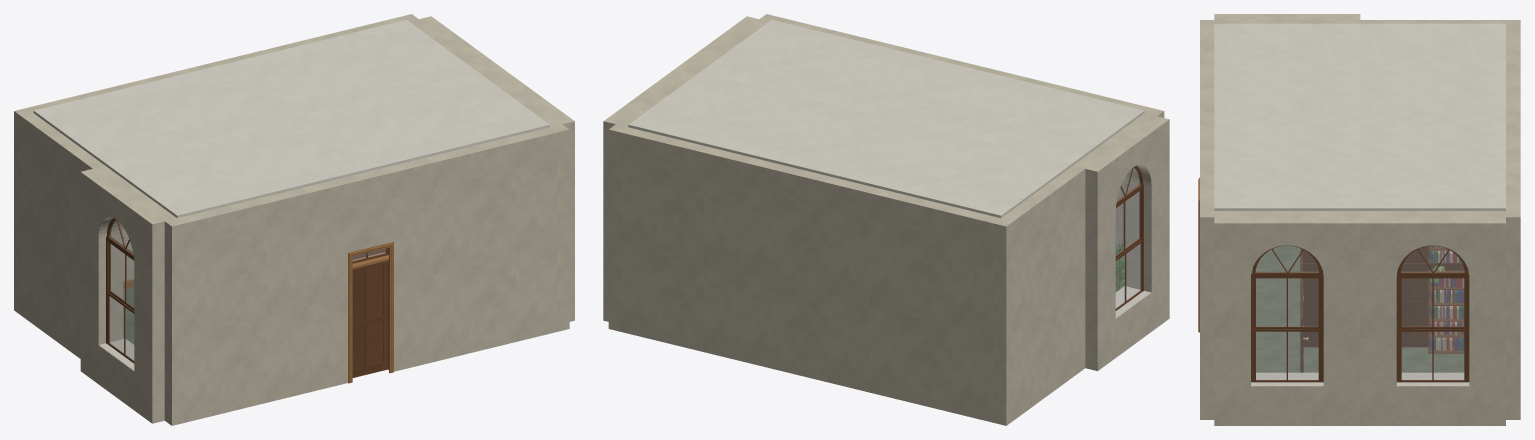
The model's file is X14_DEMO_LRS_Room_1953.glb.
3 views of the same model, side by side, from view 1: azimuth 30°, elevation 25°; view 2: azimuth 150°, elevation 25°; view 3: azimuth 270°, elevation 25° (orthographic).
Parts seen in each view (by area): view 1: X14_ARCH_Wall_Plain_300_LOD0.s0, X14_ARCH_Wall_Plain_300_LOD0.s2, X14_ARCH_Wall_Door_300_LOD0.s1, X14_ARCH_Wall_Window_300_LOD0.w1, X14_ARCH_Wall_Plain_300_LOD0.w0, X14_ARCH_Ceiling_Coffered_300_LOD0.c00, X14_ARCH_Ceiling_Coffered_300_LOD0.c10, X14_ARCH_Ceiling_Coffered_300_LOD0.c20, X14_ARCH_Ceiling_Coffered_300_LOD0.c01, X14_ARCH_Ceiling_Coffered_300_LOD0.c11, X14_ARCH_Ceiling_Coffered_300_LOD0.c21, X14_ARCH_Corner_LOD0.k0 (+10 smaller); view 2: X14_ARCH_Wall_Plain_300_LOD0.n1, X14_ARCH_Wall_Plain_300_LOD0.n2, X14_ARCH_Wall_Plain_300_LOD0.n0, X14_ARCH_Wall_Window_300_LOD0.w1, X14_ARCH_Wall_Plain_300_LOD0.w0, X14_ARCH_Ceiling_Coffered_300_LOD0.c01, X14_ARCH_Ceiling_Coffered_300_LOD0.c21, X14_ARCH_Ceiling_Coffered_300_LOD0.c11, X14_ARCH_Ceiling_Coffered_300_LOD0.c00, X14_ARCH_Ceiling_Coffered_300_LOD0.c10, X14_ARCH_Ceiling_Coffered_300_LOD0.c20, X14_ARCH_Corner_LOD0.k3 (+7 smaller); view 3: X14_ARCH_Wall_Window_300_LOD0.e0, X14_ARCH_Wall_Window_300_LOD0.e1, X14_ARCH_Ceiling_Coffered_300_LOD0.c20, X14_ARCH_Ceiling_Coffered_300_LOD0.c21, X14_ARCH_Ceiling_Coffered_300_LOD0.c00, X14_ARCH_Ceiling_Coffered_300_LOD0.c01, X14_ARCH_Ceiling_Coffered_300_LOD0.c10, X14_ARCH_Ceiling_Coffered_300_LOD0.c11, X14_ARCH_Wall_Window_300_Glass_LOD0.e0, X14_ARCH_Wall_Window_300_Glass_LOD0.e1, X14_ARCH_Corner_LOD0.k1, X14_ARCH_Corner_LOD0.k2 (+16 smaller).
Boxes of the visible parts, <box> form: X14_ARCH_Wall_Plain_300_LOD0.s0: <box>177,188,308,422</box>; X14_ARCH_Wall_Plain_300_LOD0.s2: <box>426,127,557,362</box>; X14_ARCH_Wall_Door_300_LOD0.s1: <box>302,157,432,392</box>; X14_ARCH_Wall_Window_300_LOD0.w1: <box>80,166,176,423</box>; X14_ARCH_Wall_Plain_300_LOD0.w0: <box>21,113,104,358</box>; X14_ARCH_Ceiling_Coffered_300_LOD0.c00: <box>105,133,301,218</box>; X14_ARCH_Ceiling_Coffered_300_LOD0.c10: <box>230,102,425,187</box>; X14_ARCH_Ceiling_Coffered_300_LOD0.c20: <box>354,72,549,157</box>; X14_ARCH_Ceiling_Coffered_300_LOD0.c01: <box>33,80,229,165</box>; X14_ARCH_Ceiling_Coffered_300_LOD0.c11: <box>158,50,353,132</box>; X14_ARCH_Ceiling_Coffered_300_LOD0.c21: <box>282,19,477,102</box>; X14_ARCH_Corner_LOD0.k0: <box>164,218,184,425</box>; X14_ARCH_Wall_Plain_300_LOD0.n1: <box>745,157,876,392</box>; X14_ARCH_Wall_Plain_300_LOD0.n2: <box>869,188,1000,422</box>; X14_ARCH_Wall_Plain_300_LOD0.n0: <box>621,127,751,361</box>; X14_ARCH_Wall_Window_300_LOD0.w1: <box>1073,113,1169,371</box>; X14_ARCH_Wall_Plain_300_LOD0.w0: <box>1001,166,1085,420</box>; X14_ARCH_Ceiling_Coffered_300_LOD0.c01: <box>877,133,1072,217</box>; X14_ARCH_Ceiling_Coffered_300_LOD0.c21: <box>628,72,823,157</box>; X14_ARCH_Ceiling_Coffered_300_LOD0.c11: <box>752,102,948,187</box>; X14_ARCH_Ceiling_Coffered_300_LOD0.c00: <box>949,80,1144,165</box>; X14_ARCH_Ceiling_Coffered_300_LOD0.c10: <box>824,50,1019,132</box>; X14_ARCH_Ceiling_Coffered_300_LOD0.c20: <box>700,20,895,102</box>; X14_ARCH_Corner_LOD0.k3: <box>994,218,1013,425</box>; X14_ARCH_Wall_Window_300_LOD0.e0: <box>1214,211,1360,425</box>; X14_ARCH_Wall_Window_300_LOD0.e1: <box>1360,211,1505,425</box>; X14_ARCH_Ceiling_Coffered_300_LOD0.c20: <box>1214,147,1360,210</box>; X14_ARCH_Ceiling_Coffered_300_LOD0.c21: <box>1360,147,1505,210</box>; X14_ARCH_Ceiling_Coffered_300_LOD0.c00: <box>1214,23,1360,85</box>; X14_ARCH_Ceiling_Coffered_300_LOD0.c01: <box>1360,23,1505,85</box>; X14_ARCH_Ceiling_Coffered_300_LOD0.c10: <box>1214,85,1360,146</box>; X14_ARCH_Ceiling_Coffered_300_LOD0.c11: <box>1360,85,1505,146</box>; X14_ARCH_Wall_Window_300_Glass_LOD0.e0: <box>1256,246,1318,379</box>; X14_ARCH_Wall_Window_300_Glass_LOD0.e1: <box>1401,246,1464,379</box>; X14_ARCH_Corner_LOD0.k1: <box>1200,211,1214,419</box>; X14_ARCH_Corner_LOD0.k2: <box>1506,211,1520,419</box>.
Size of what is drawn, in the model's own units: 10.2 by 4.66 by 6.63.
33 materials, 14 textured.
